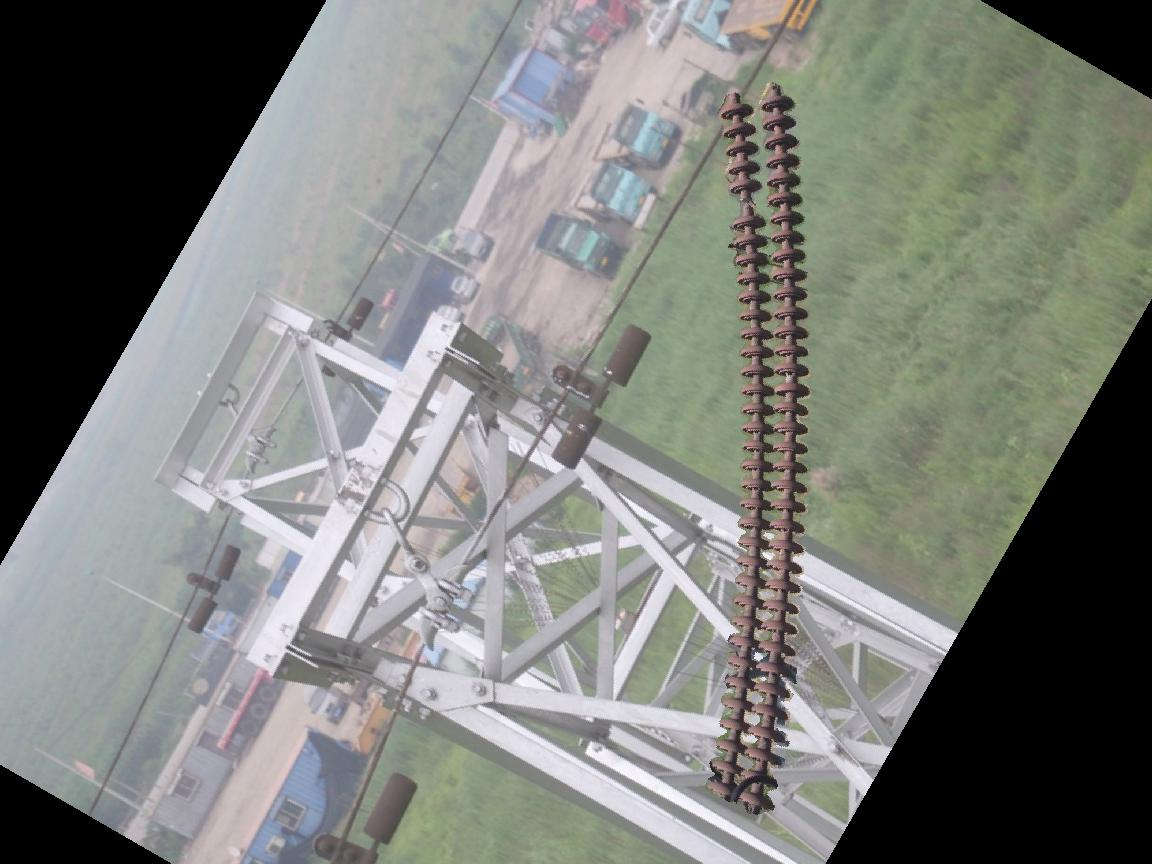insulator: (709, 83, 818, 814)
insulator_stringdrop: (723, 174, 768, 233)
